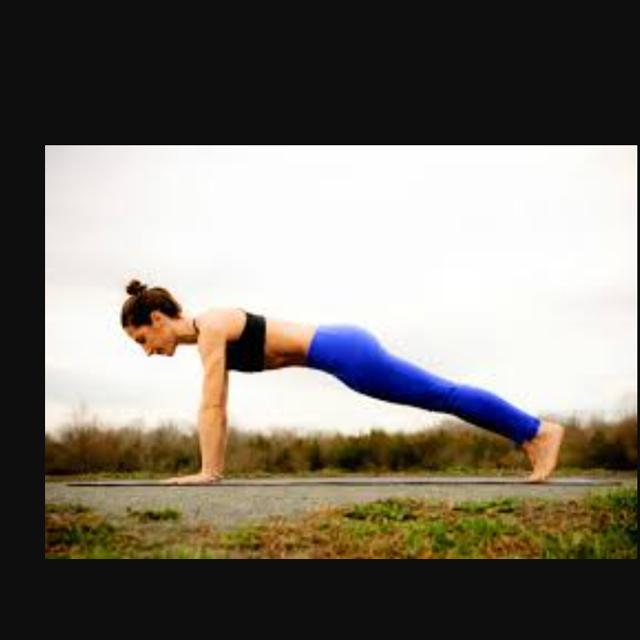Plank_Pose: (112, 273, 567, 484)
